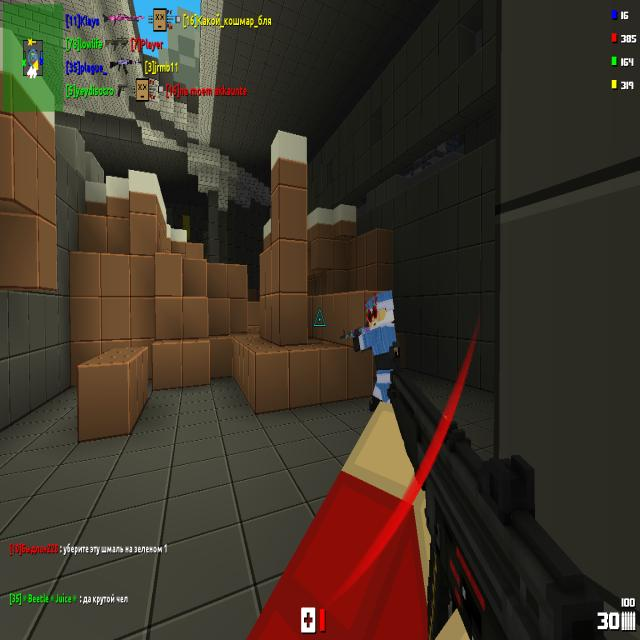enemy: (353, 286, 401, 414)
